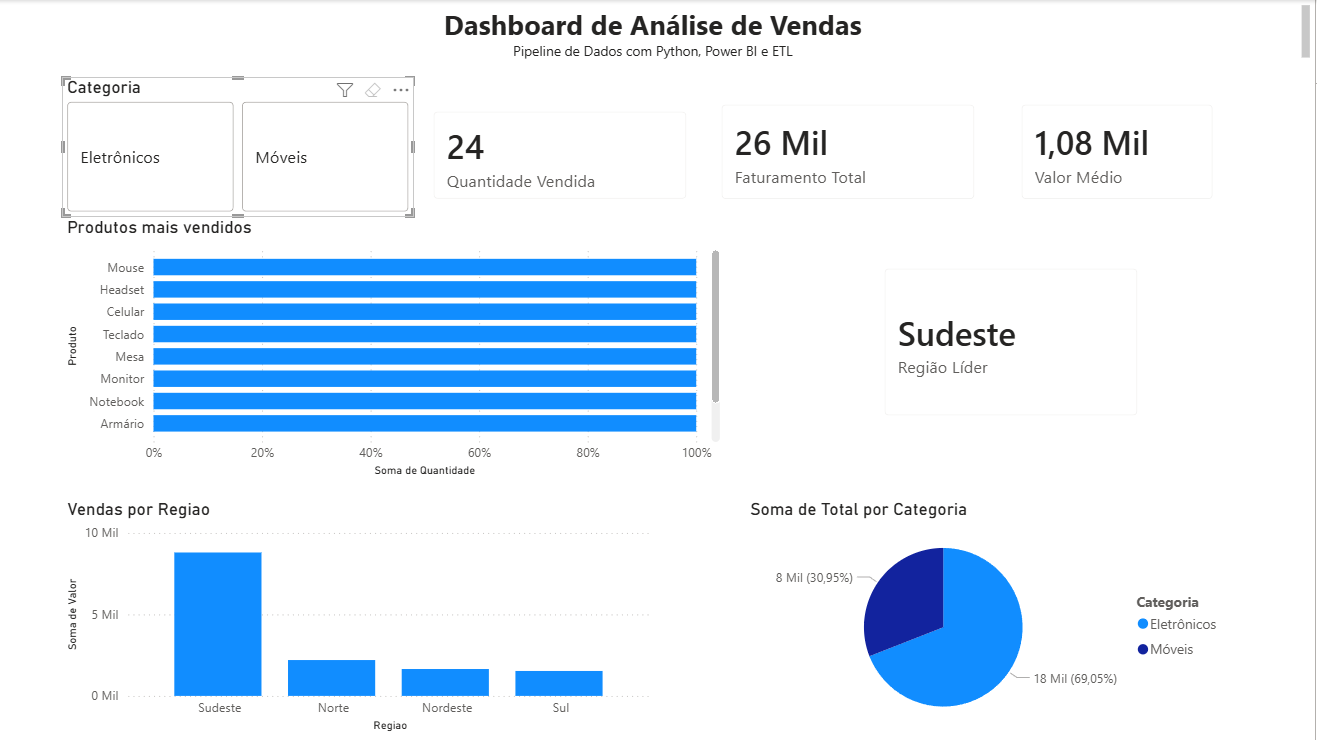

The dashboard page shown, as its layout file describes it:
{"tool":"powerbi","page":{"name":"Página 1","canvas":[1280,720],"ordinal":0},"visuals":[{"type":"cardVisual","fields":{"Data":["vendas_tratado.Faturamento Total"]},"box":[685.7,84.6,280.1,126.4],"z":0},{"type":"cardVisual","fields":{"Data":["vendas_tratado.Quantidade Vendida"]},"box":[405.6,91.4,280.1,119.6],"z":1000},{"type":"cardVisual","fields":{"Data":["vendas_tratado.Ticket Médio"]},"box":[977.5,84.6,220.8,126.4],"z":2000},{"type":"columnChart","title":"Vendas por Regiao","fields":{"Category":["vendas_tratado.Regiao"],"Y":["Sum(vendas_tratado.Valor)"]},"box":[61.3,485.3,578.7,230.5],"z":3000},{"type":"hundredPercentStackedBarChart","title":"Produtos mais vendidos","fields":{"Category":["vendas_tratado.Produto"],"Y":["Sum(vendas_tratado.Quantidade)"]},"box":[61.3,211.1,644.9,256.8],"z":4000},{"type":"pieChart","fields":{"Category":["vendas_tratado.Categoria"],"Y":["Sum(vendas_tratado.Total)"]},"box":[725.6,485.3,472.7,230.5],"z":5000},{"type":"advancedSlicerVisual","fields":{"Values":["vendas_tratado.Categoria"]},"box":[61.3,74.9,342.4,136.2],"z":6000},{"type":"textbox","box":[0,0,1280,62.2],"z":7000},{"type":"cardVisual","fields":{"Data":["vendas_tratado.Região Líder"]},"box":[844.3,244.1,280.1,178],"z":8000}]}

Visuals, with their boxes in screenshot pixels (x1, y1, x2, y2), scaled from the page's 1280x720 canvas onto the 1317x740 screenshot:
cardVisual - vendas_tratado.Faturamento Total: x1=706, y1=87, x2=994, y2=217
cardVisual - vendas_tratado.Quantidade Vendida: x1=417, y1=94, x2=706, y2=217
cardVisual - vendas_tratado.Ticket Médio: x1=1006, y1=87, x2=1233, y2=217
"Vendas por Regiao" columnChart: x1=63, y1=499, x2=658, y2=736
"Produtos mais vendidos" hundredPercentStackedBarChart: x1=63, y1=217, x2=727, y2=481
pieChart - vendas_tratado.Categoria x Sum(vendas_tratado.Total): x1=747, y1=499, x2=1233, y2=736
advancedSlicerVisual - vendas_tratado.Categoria: x1=63, y1=77, x2=415, y2=217
textbox: x1=0, y1=0, x2=1316, y2=64
cardVisual - vendas_tratado.Região Líder: x1=869, y1=251, x2=1157, y2=434
